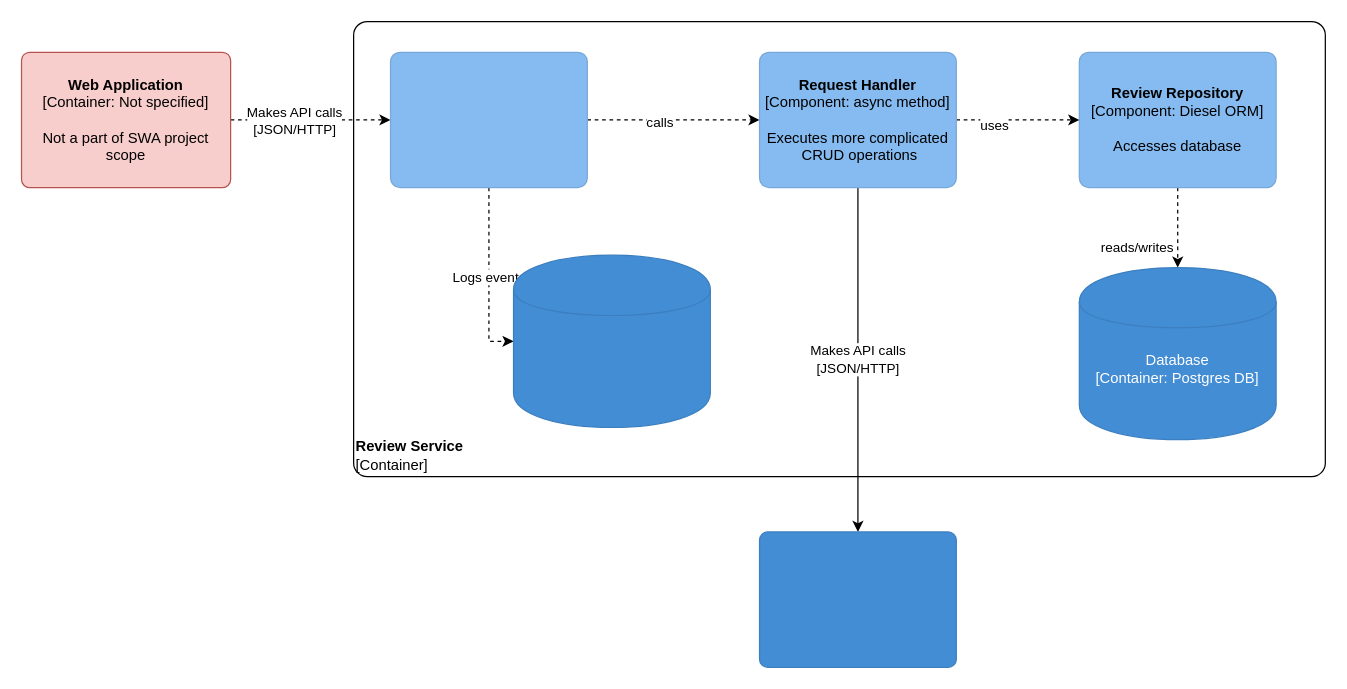
Image size: 1347x689. Some labels were removed from this diagram. Here are the shapes that lost their labels. From the top down, the centre of each, then its label:
At (488,119): "Review Controller [Component: Actix server ] Exposes API to manage reviews".
At (611,340): "Database [Container: Prometheus DB]".
At (857,599): "Auth Service [Container: ]".
